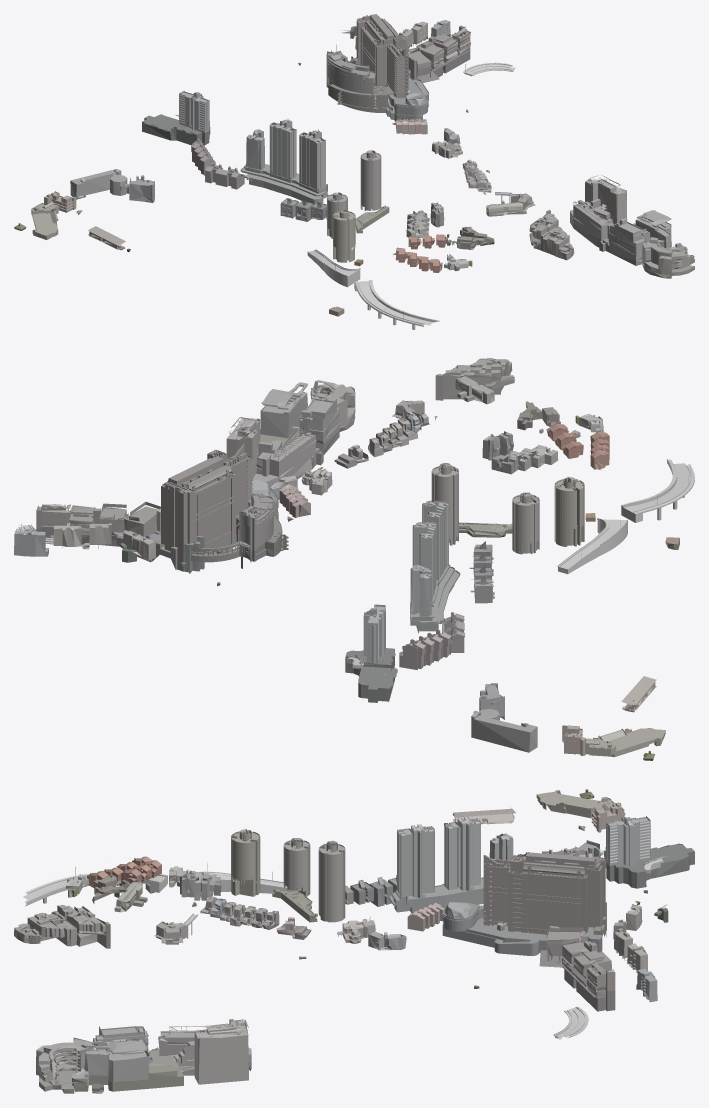
3 views of the same model, one above another, from view 1: azimuth 30°, elevation 25°; view 2: azimuth 150°, elevation 25°; view 3: azimuth 270°, elevation 25° (orthographic). The views are drawn at different scales.
Visible parts, largest first — view 1: buildings, infrastructure; view 2: buildings, infrastructure; view 3: buildings, infrastructure.
Boxes of the visible parts, bbox=[...] form: buildings: bbox=[14, 14, 694, 316]; infrastructure: bbox=[124, 30, 649, 329]; buildings: bbox=[14, 358, 679, 760]; infrastructure: bbox=[16, 411, 694, 668]; buildings: bbox=[14, 789, 694, 1093]; infrastructure: bbox=[23, 850, 669, 1049].
Size of the model in its own units: 689 by 170 by 640.
